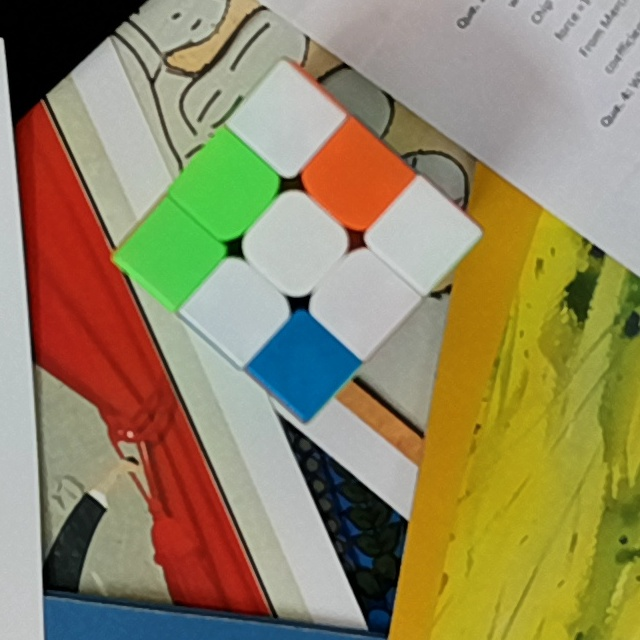tile: (262, 216, 325, 274), (392, 207, 454, 264), (208, 281, 270, 338), (194, 159, 257, 215), (325, 150, 385, 208), (334, 271, 392, 328), (257, 92, 315, 148), (274, 338, 333, 392), (145, 230, 197, 284)
